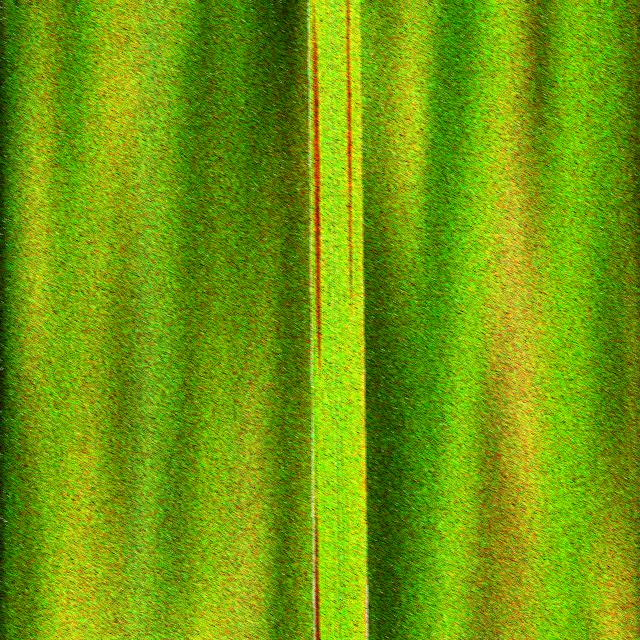NBS: (312, 5, 321, 368), (312, 10, 319, 258), (314, 502, 320, 640)
